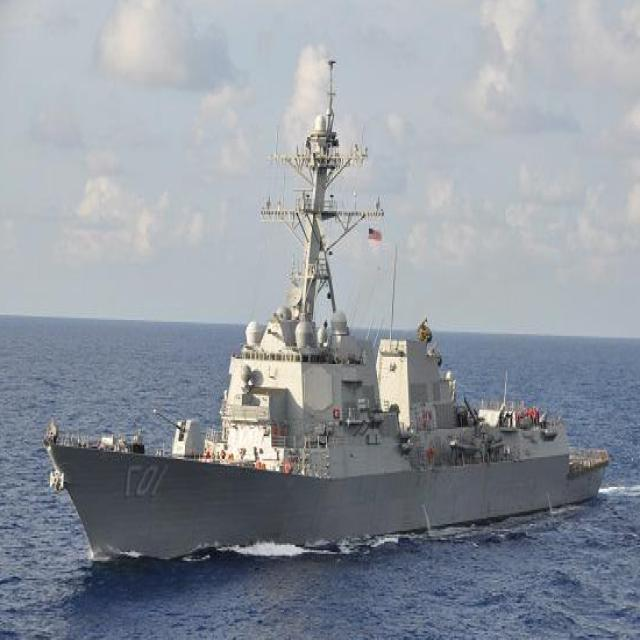navalvessels: (35, 78, 610, 560)
